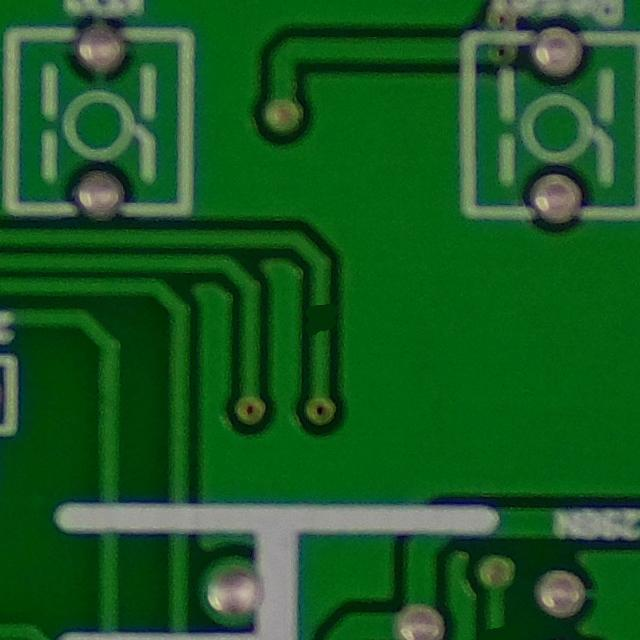open_circuit: (304, 294, 336, 346)
